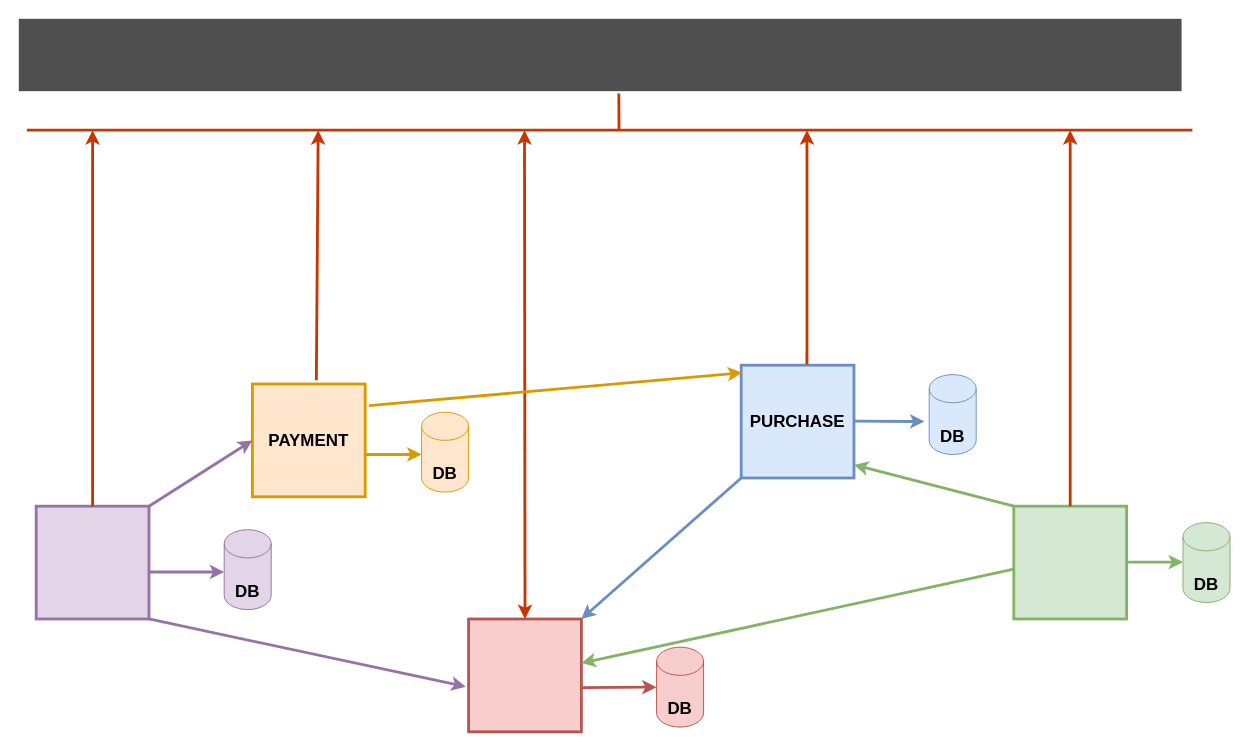
Some shapes in this 1246 by 749 pixel diagram are drawn without their labels. Each missing label, with the centre of its shape:
"ADVERT" goes at (x=92, y=562).
"EMAIL" goes at (x=1070, y=562).
"GATEWAY" goes at (x=600, y=55).
"USER" goes at (x=524, y=675).
